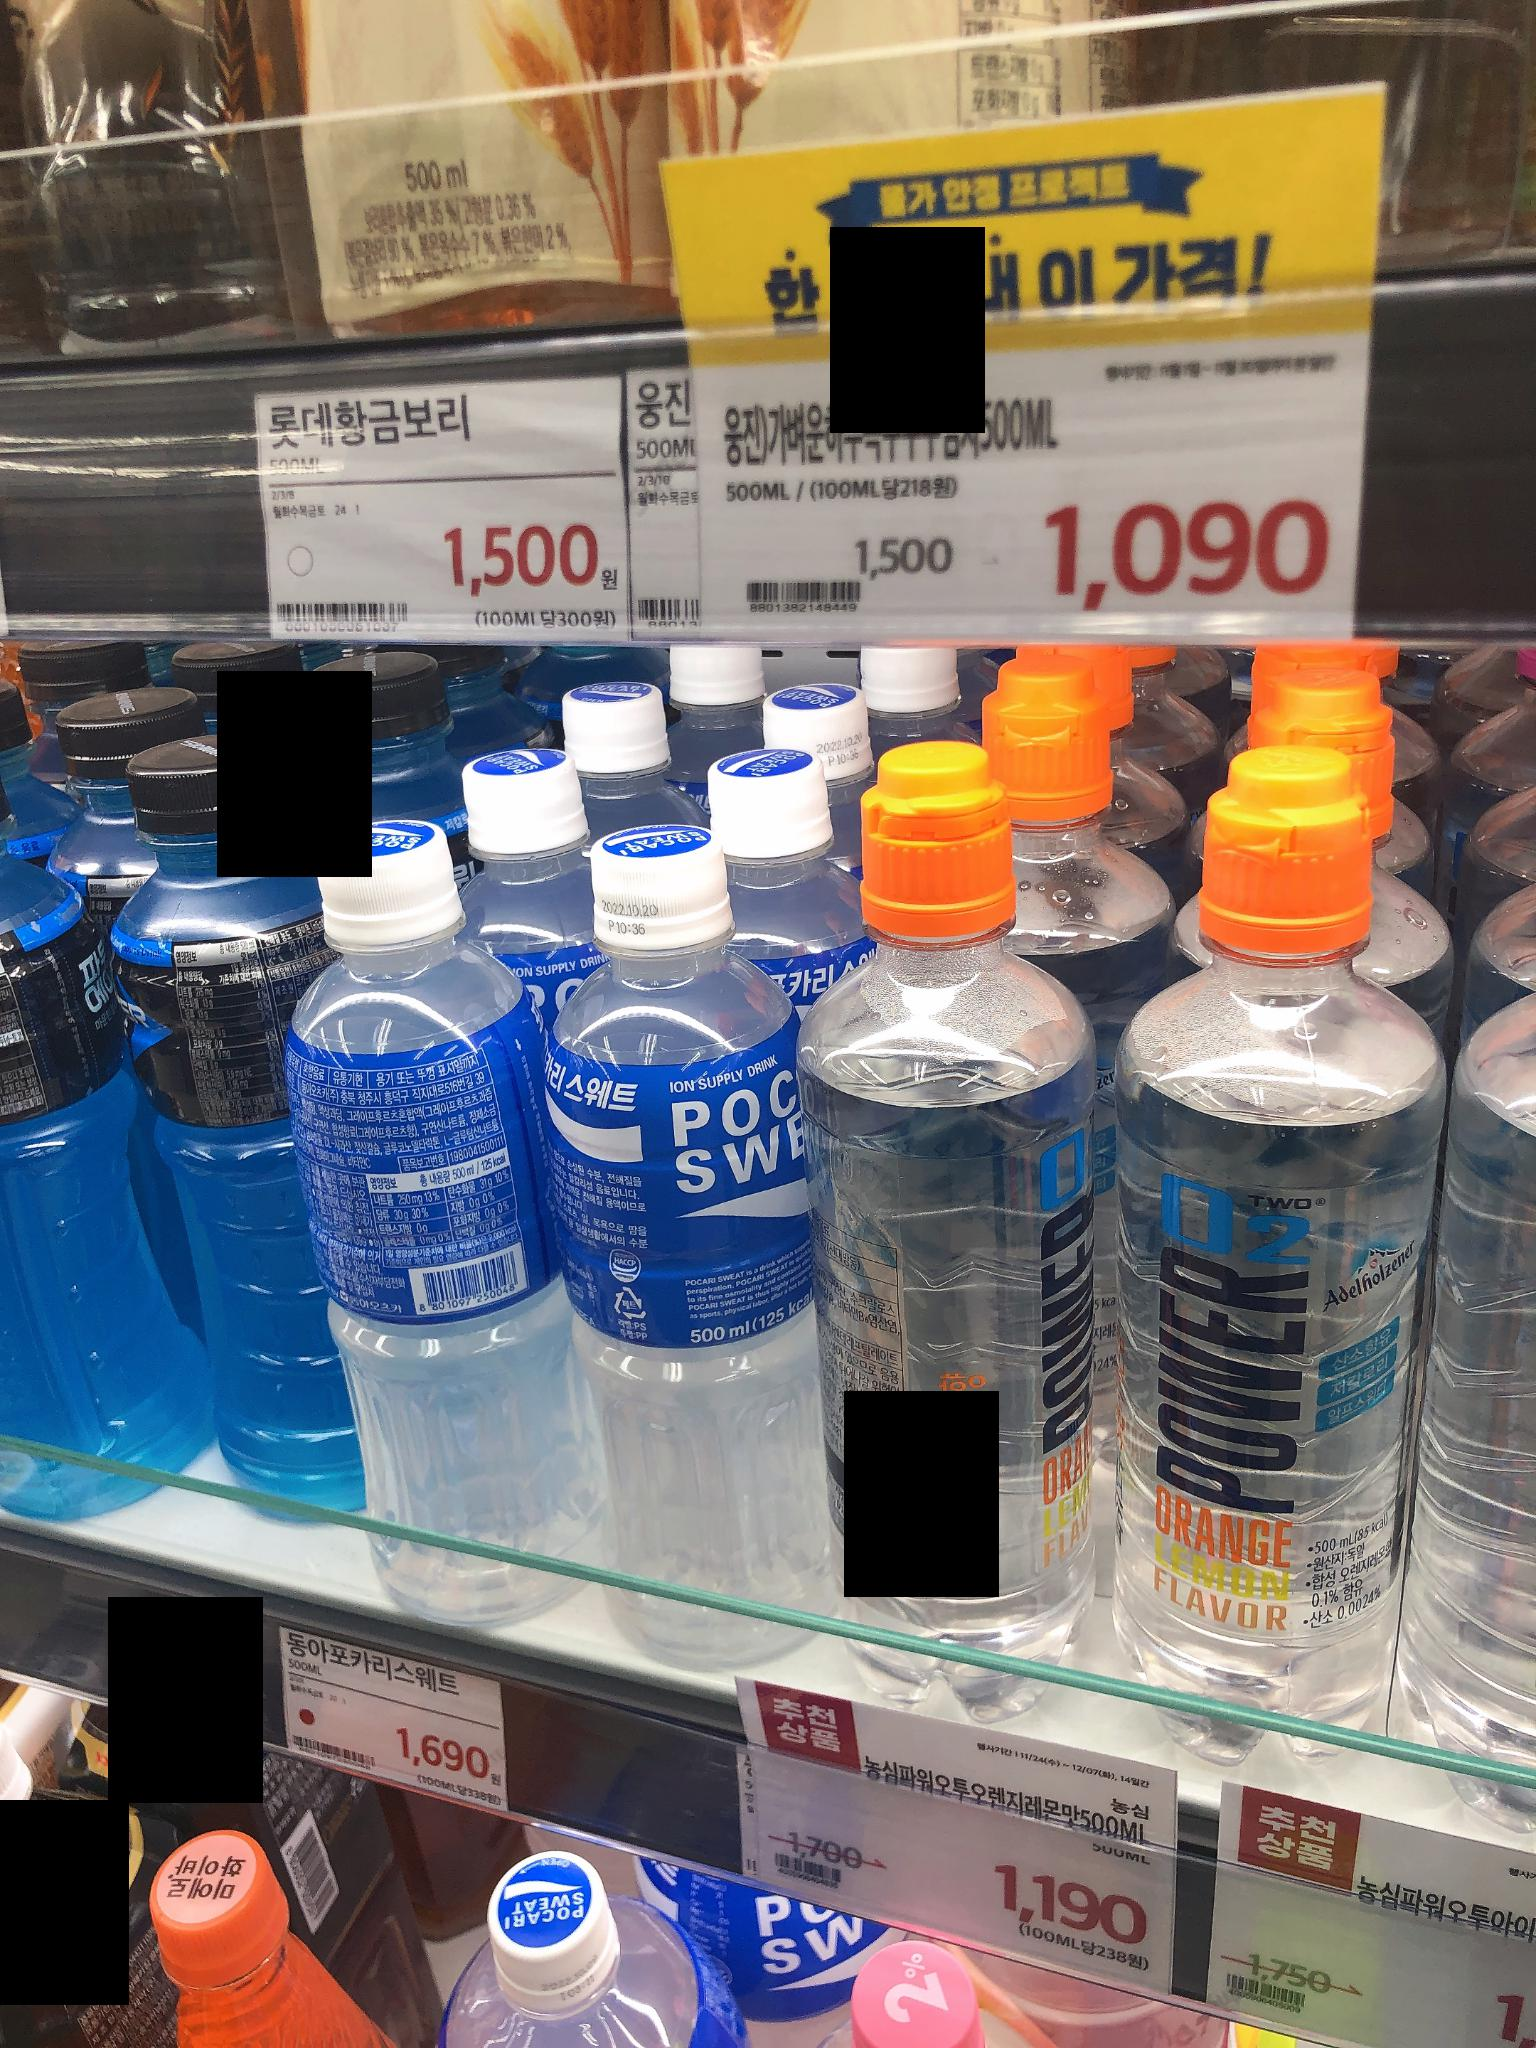pocarisweat: (458, 803, 849, 1675), (231, 803, 623, 1637)
powerO2_orange: (1091, 776, 1463, 1719), (749, 768, 1133, 1671)
